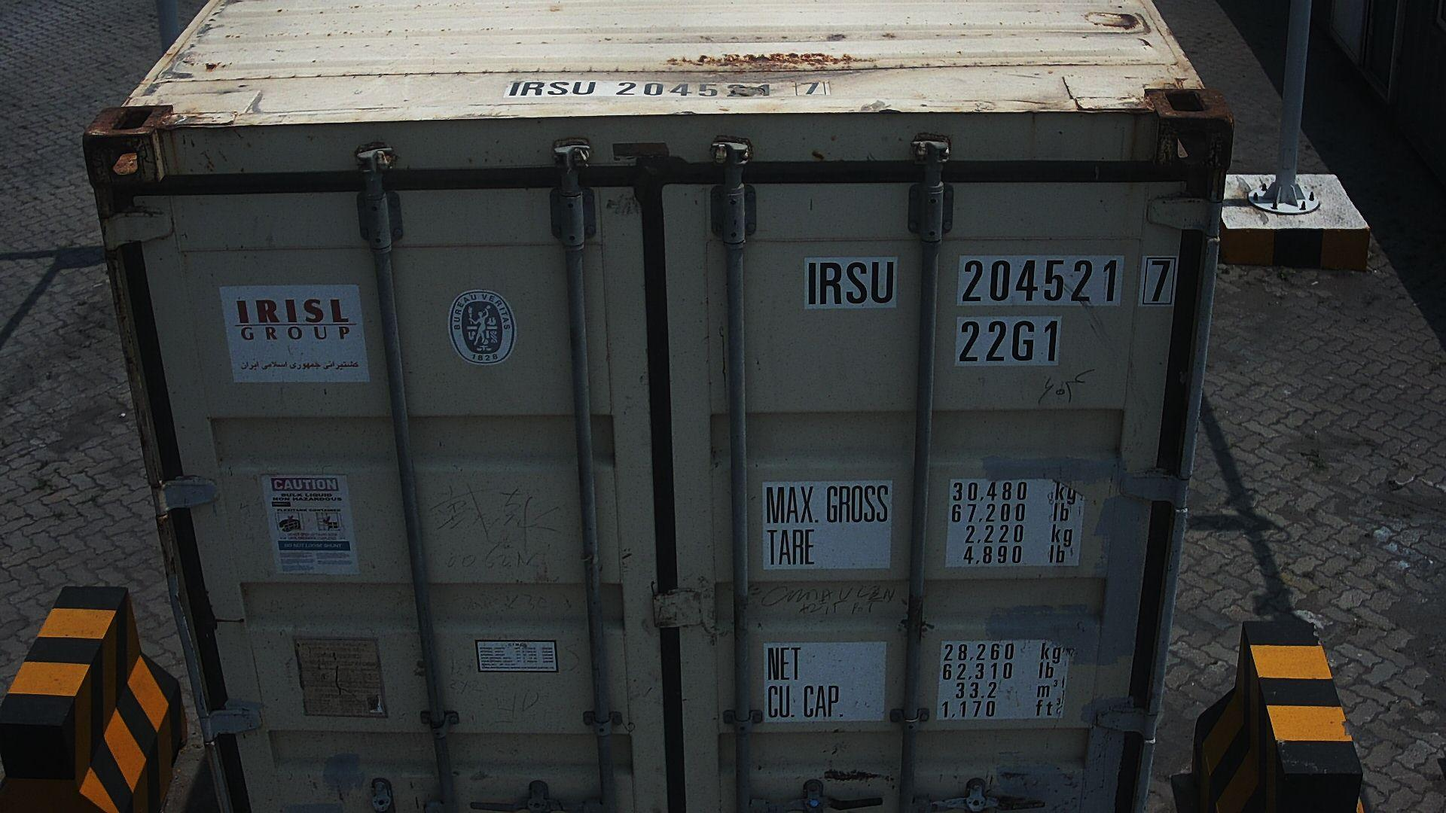container-numbers: (801, 251, 1179, 312), (501, 77, 833, 100), (953, 315, 1065, 367)
